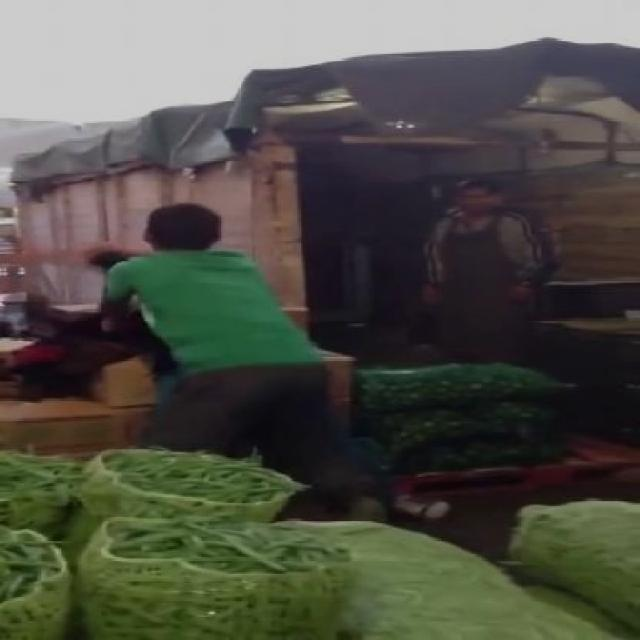non-fight: (91, 197, 331, 485), (411, 163, 557, 367)
